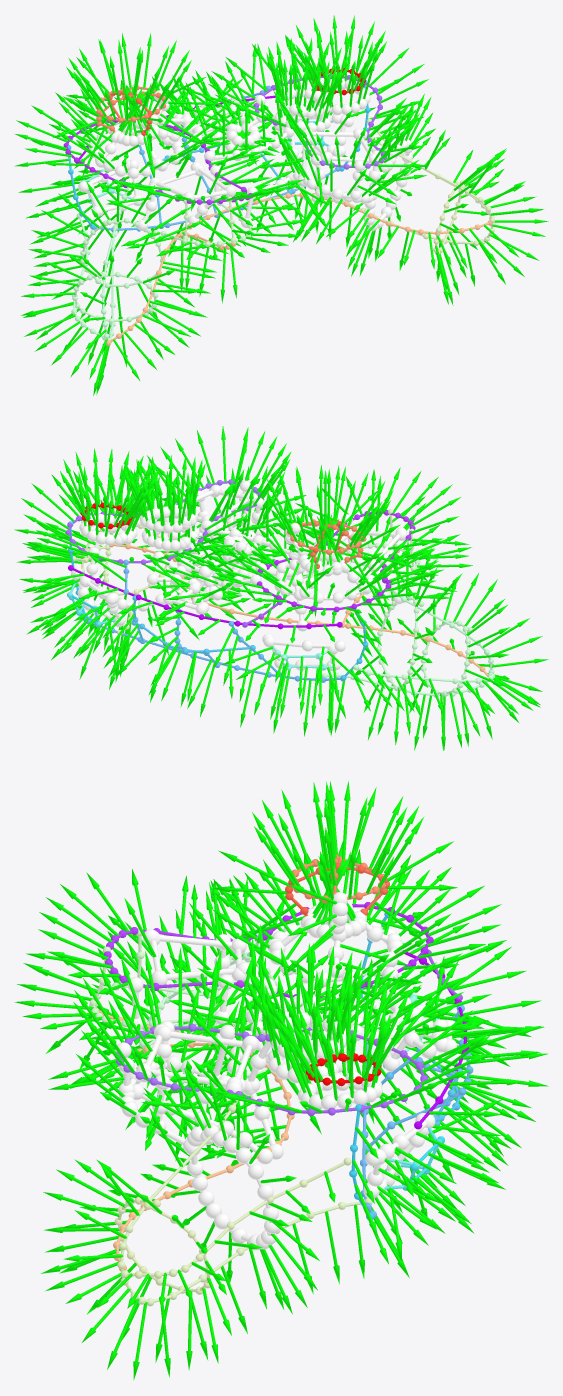
The model's file is author2_gamepad.gltf.
3 renders of one model, top to bottom at view 1: azimuth 30°, elevation 25°; view 2: azimuth 150°, elevation 25°; view 3: azimuth 270°, elevation 25°, orthographic. The views are drawn at different scales.
Size of the model in its own units: 1 by 0.5512 by 0.6589.
